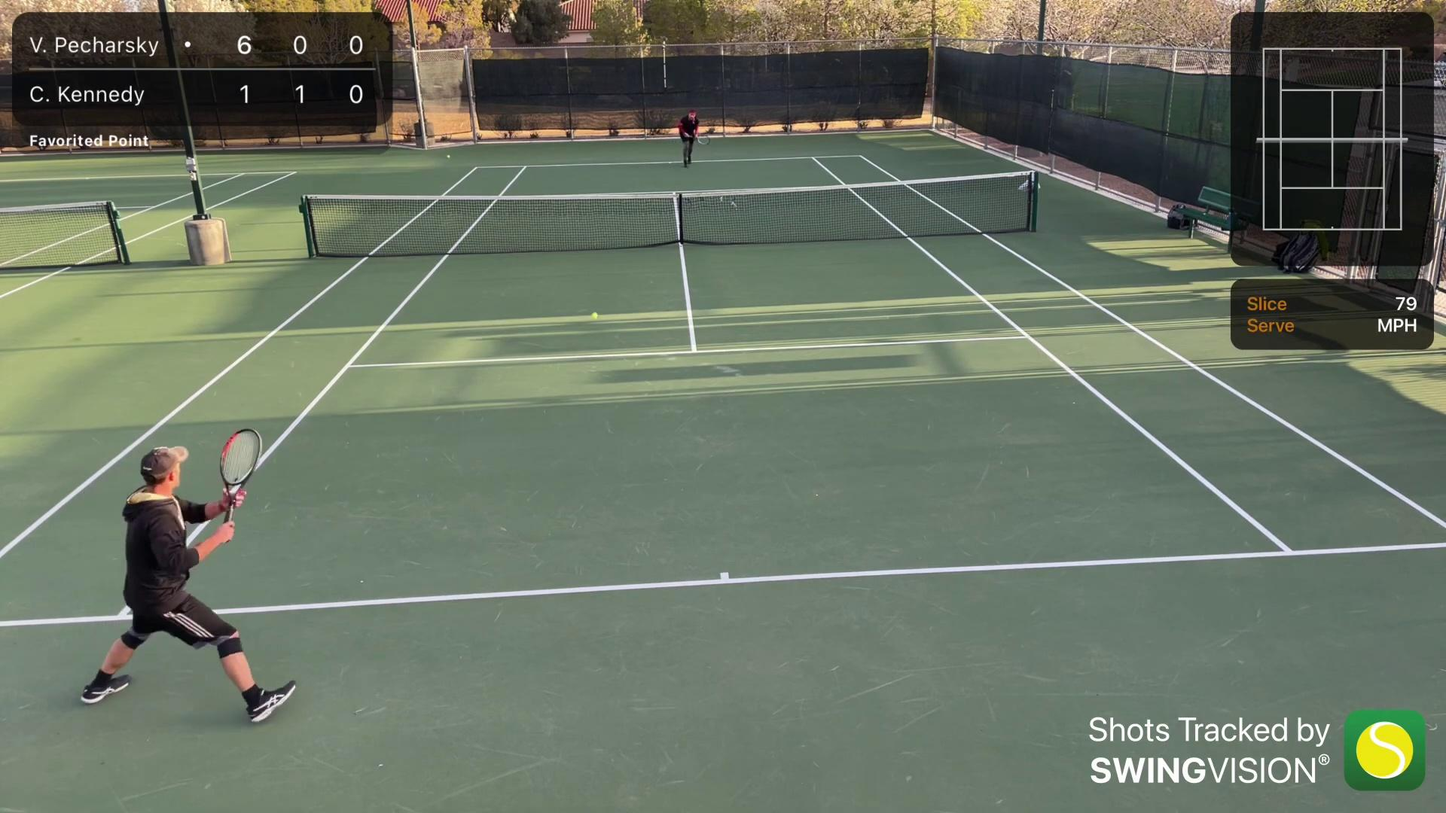ball: (590, 314, 599, 319), (446, 154, 451, 160)
